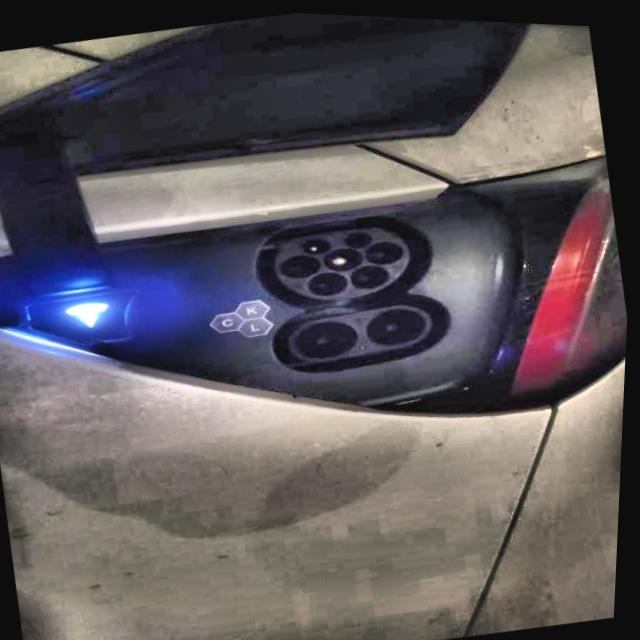inlet: (278, 223, 411, 296)
inlet-above-left: (304, 235, 334, 251)
inlet-above-right: (346, 228, 374, 244)
inlet-below-left: (309, 268, 350, 292)
inlet-below-right: (352, 261, 391, 285)
inlet-center: (325, 244, 365, 268)
inlet-center-left: (282, 251, 323, 275)
inlet-center-right: (366, 237, 406, 260)
